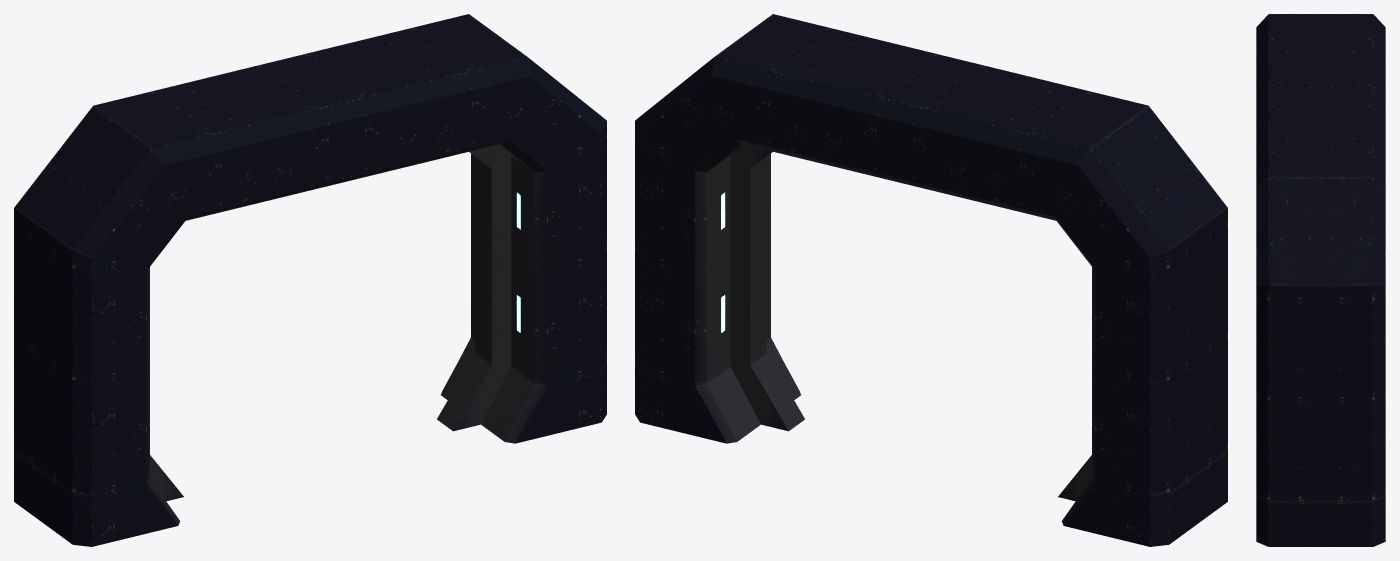
File: Gate.fbx
3 renders of one model, left to right at view 1: azimuth 30°, elevation 25°; view 2: azimuth 150°, elevation 25°; view 3: azimuth 270°, elevation 25°, orthographic. The views are drawn at different scales.
Visible parts, largest first — view 1: Door_LP; view 2: Door_LP; view 3: Door_LP.
Boxes of the visible parts, bbox=[...] form: Door_LP: bbox=[14, 14, 606, 546]; Door_LP: bbox=[635, 14, 1227, 546]; Door_LP: bbox=[1256, 14, 1385, 546].
Bounding box in the file's own units: 409 × 276 × 96.6.
